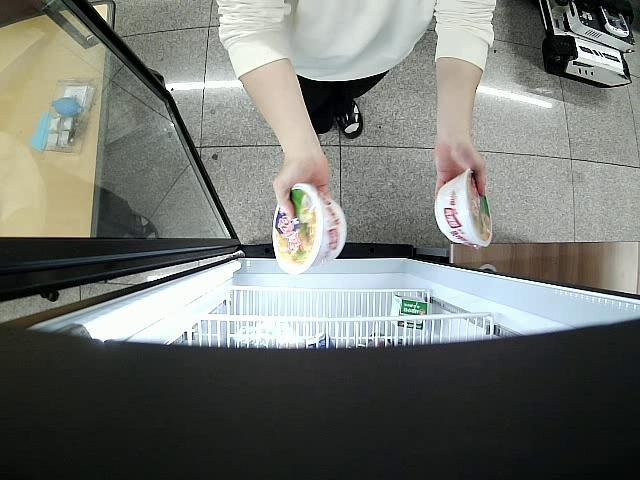09_yukGaeJang: (270, 182, 348, 274), (434, 166, 494, 247)
